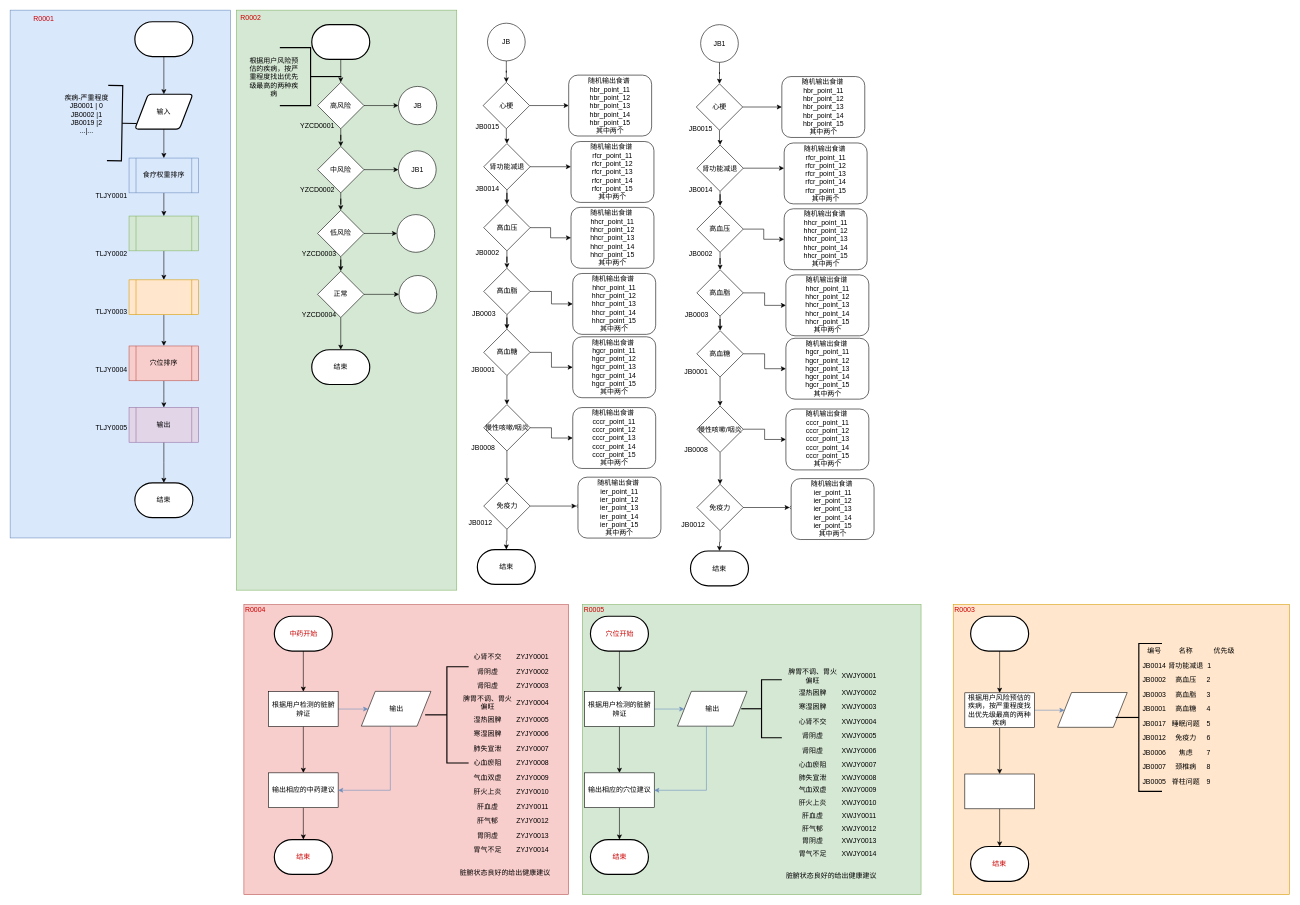
This 1300x905 diagram has some shape labels left out. Each missing label, with the centre of its shape:
JB2: the point at 415,233
JB3: the point at 417,294
中药排序: the point at 163,297
开始: the point at 163,39
输出过滤后的运动优先级表: the point at 1092,709
运动开始: the point at 999,633
运动权重排序: the point at 163,233
随机相应的运动建议: the point at 999,791
食疗开始: the point at 340,42
